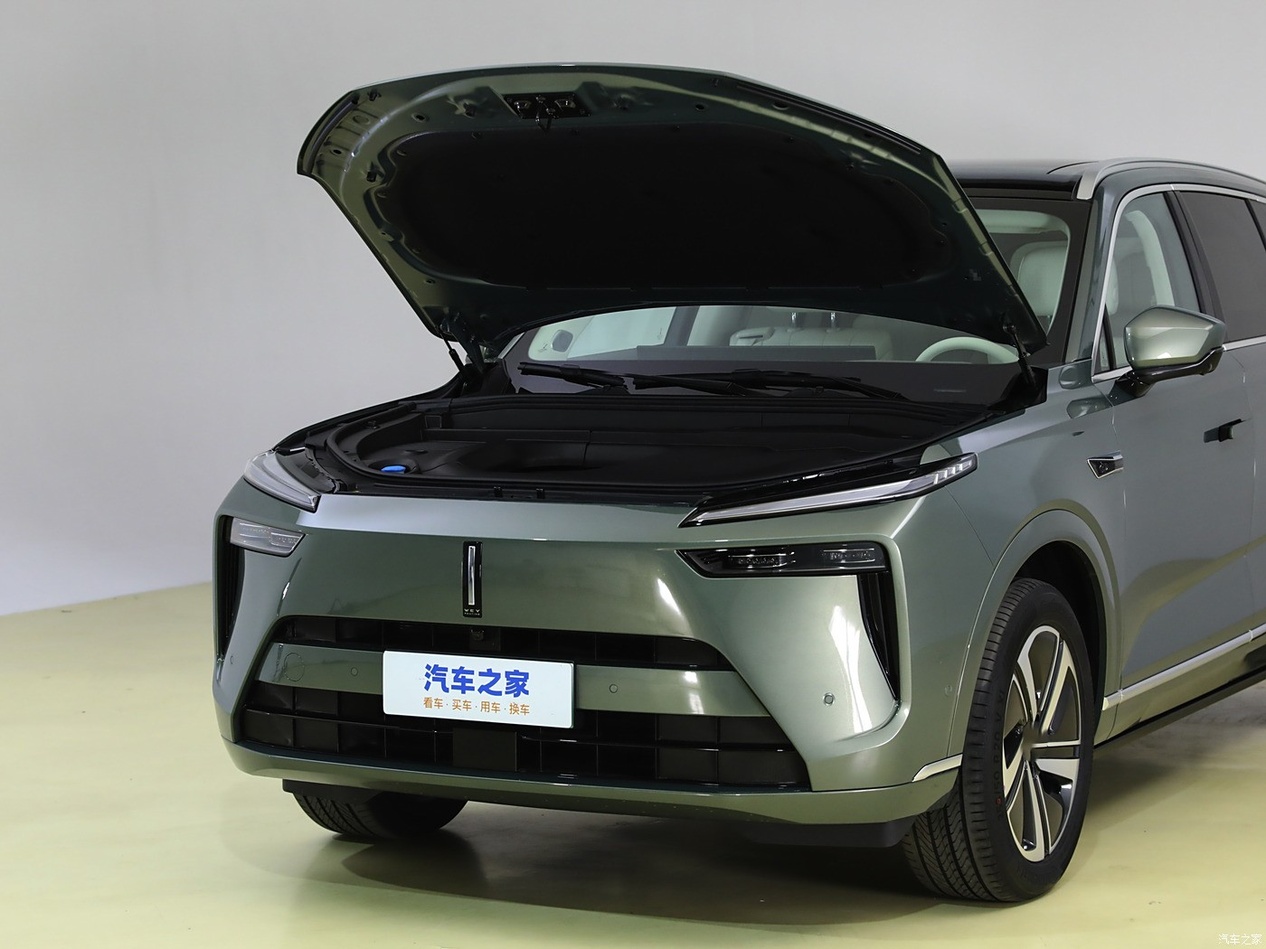WEY: (462, 541, 481, 617)
